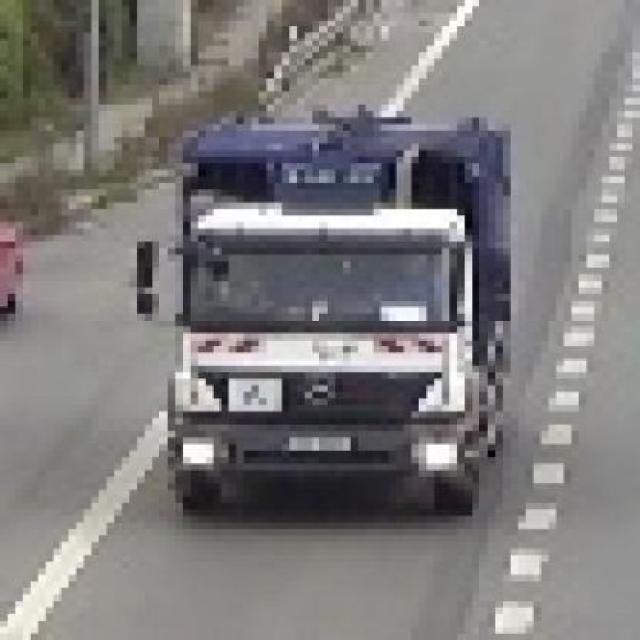truck: (146, 99, 535, 511)
